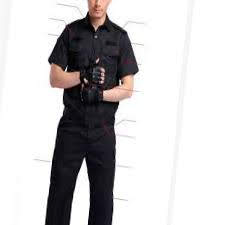uniform: (39, 15, 145, 221)
